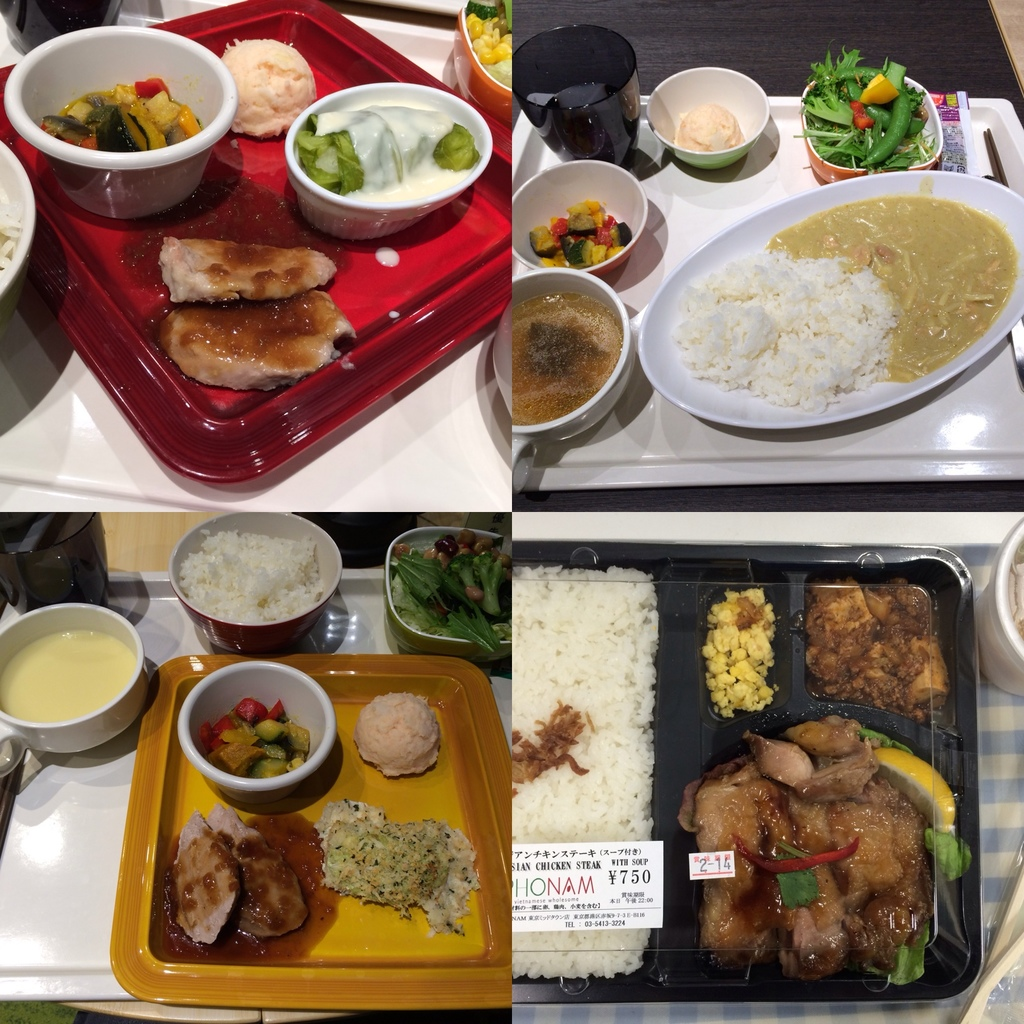salad: (794, 40, 935, 161), (35, 66, 207, 154), (190, 691, 325, 781)
